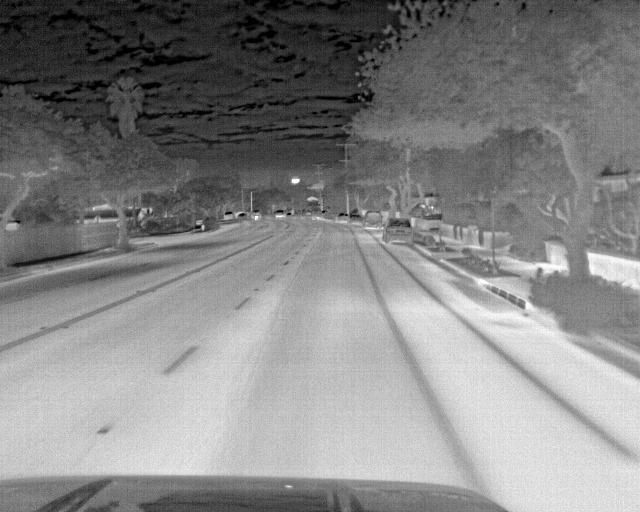car: (381, 217, 417, 244), (365, 209, 384, 227), (347, 212, 365, 227), (334, 211, 351, 224), (273, 207, 288, 220), (222, 209, 236, 222), (249, 208, 264, 220)
